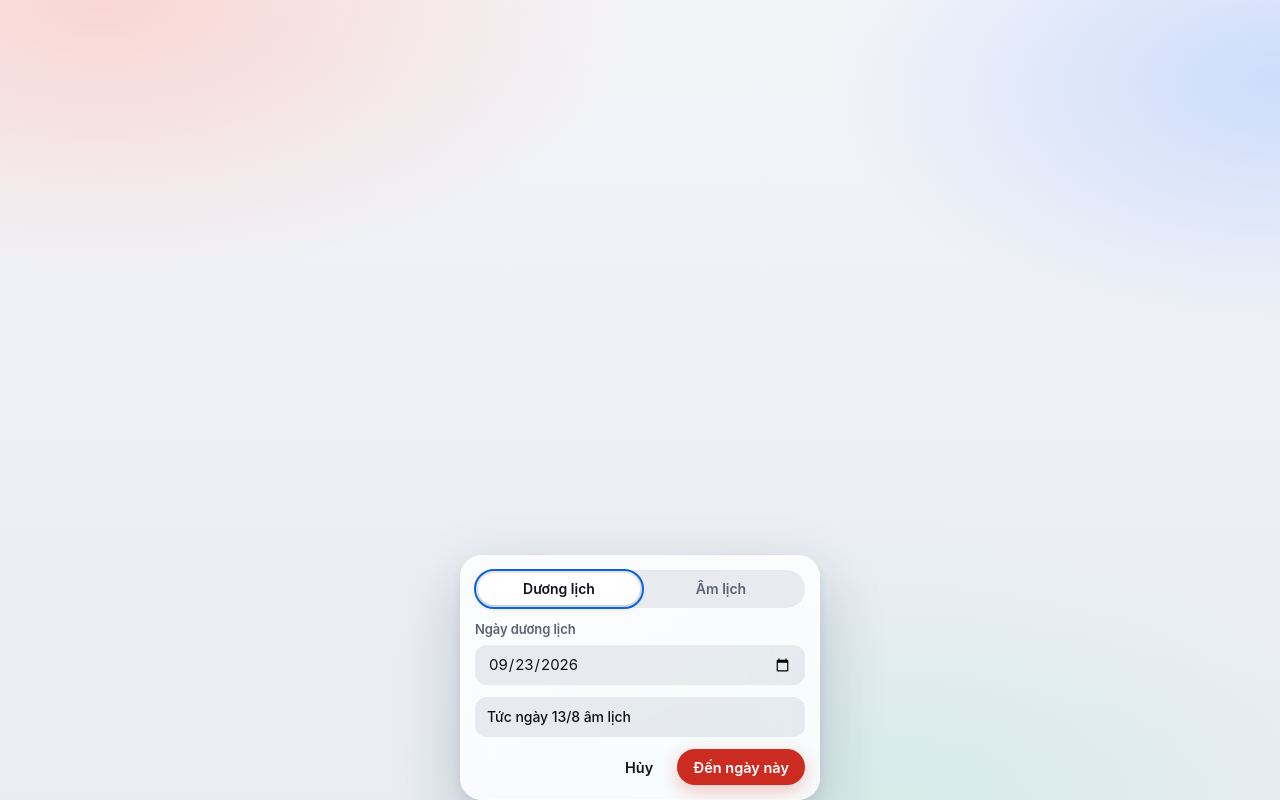
Test: DatePicker › không sập khi đang gõ dở năm dương lịch
(page scrolled)
In the date field labelled "Ngày dương lịch": [640, 665] box [475, 645, 805, 685], type "0002-09-23"
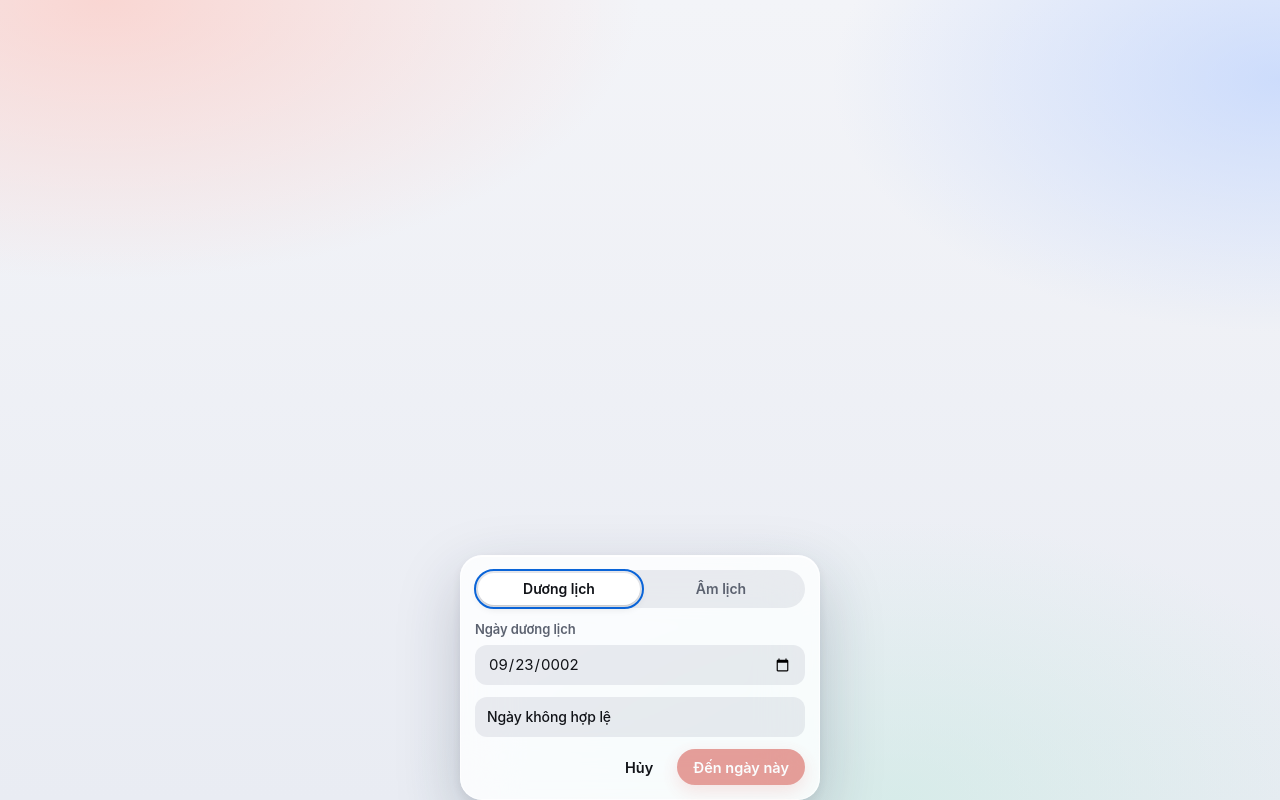
Expected: the text "Ngày không hợp lệ" is shown, [475, 697, 805, 737]
Expected: the button "Đến ngày này" is disabled, [677, 749, 805, 785]
In the date field labelled "Ngày dương lịch": [640, 665] box [475, 645, 805, 685], type "2027-09-23"
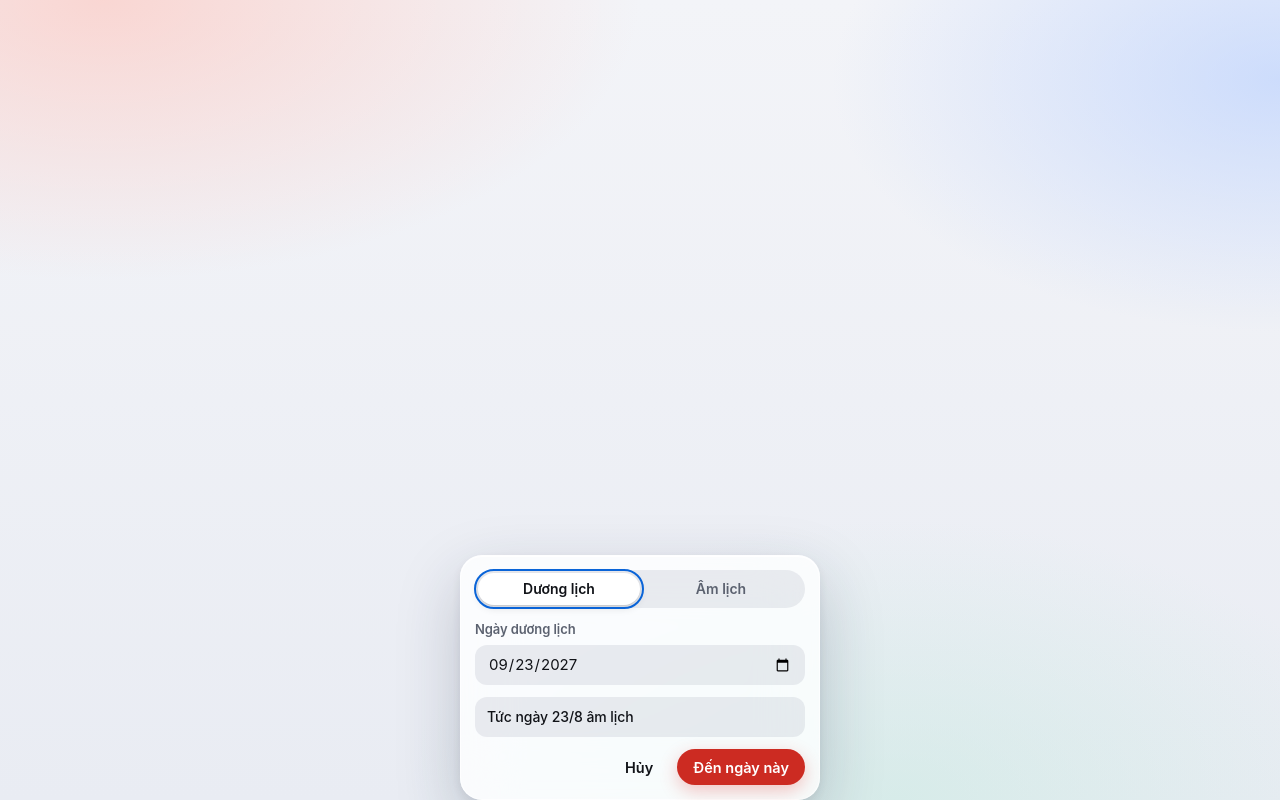
Expected: the button "Đến ngày này" is enabled, [677, 749, 805, 785]
